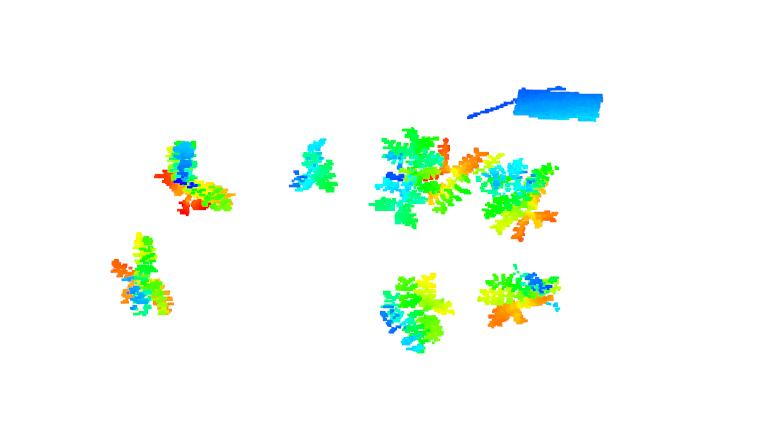chickpea: (367, 126, 487, 231), (476, 150, 563, 246), (378, 270, 457, 357), (151, 137, 236, 216), (108, 231, 180, 324), (474, 262, 564, 329), (279, 135, 346, 198)
